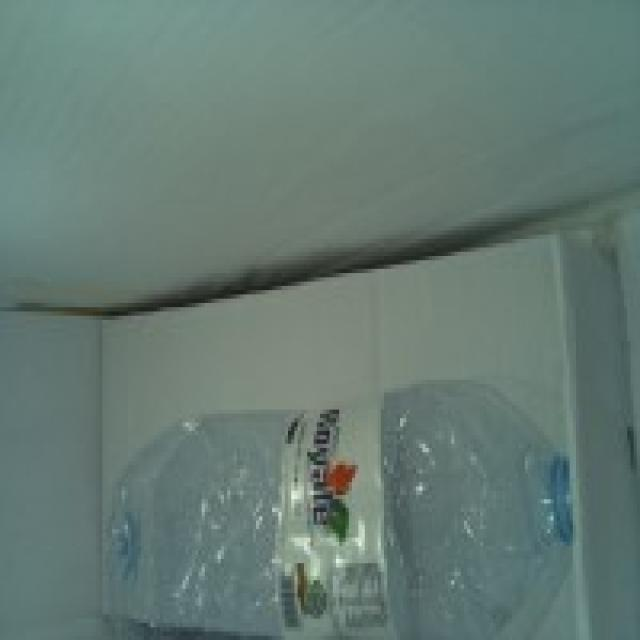Anorganik: (99, 379, 572, 640)
